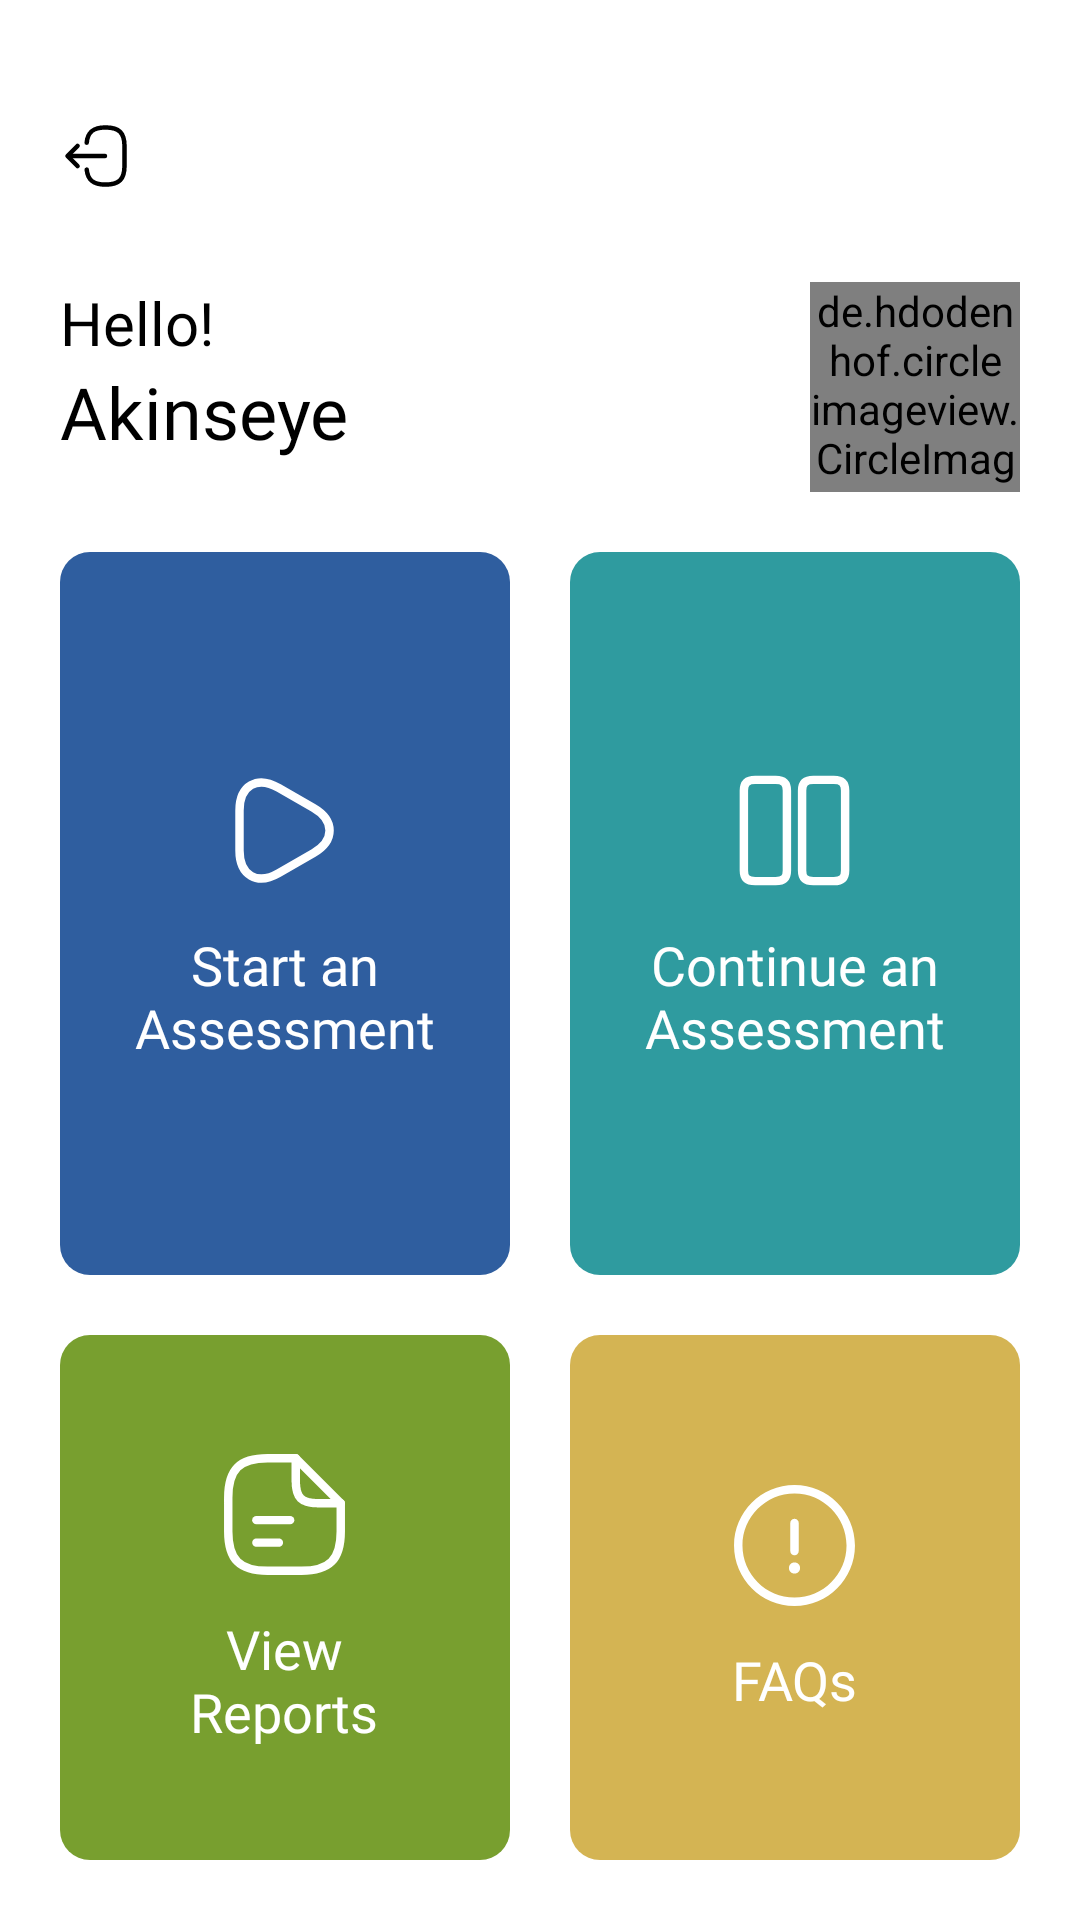

Screen size 1080w x 1920h. Icon name, then its box in pixels as bbox=(x1, y1, x2, y2):
document: bbox=(224, 1454, 345, 1575)
pause: bbox=(739, 775, 850, 886)
play: bbox=(235, 778, 334, 883)
